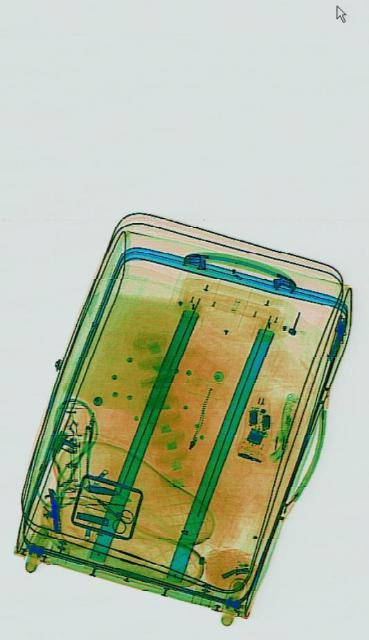Scissors: (88, 480, 133, 540)
